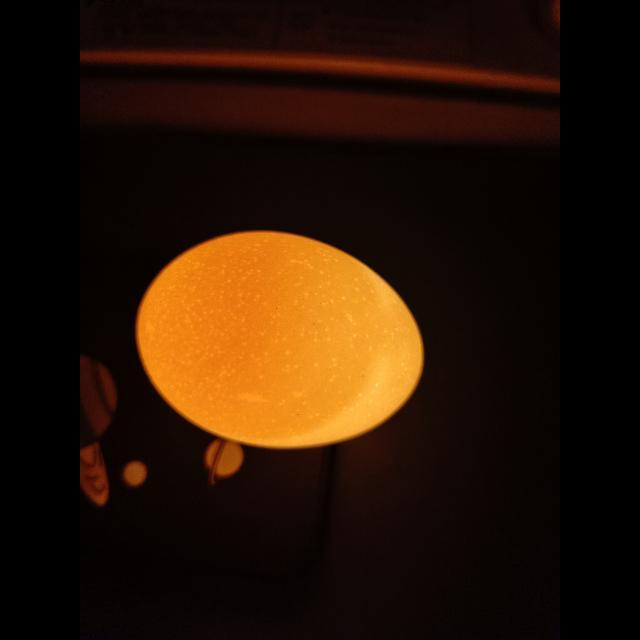AA - Premium: (136, 231, 424, 449)
